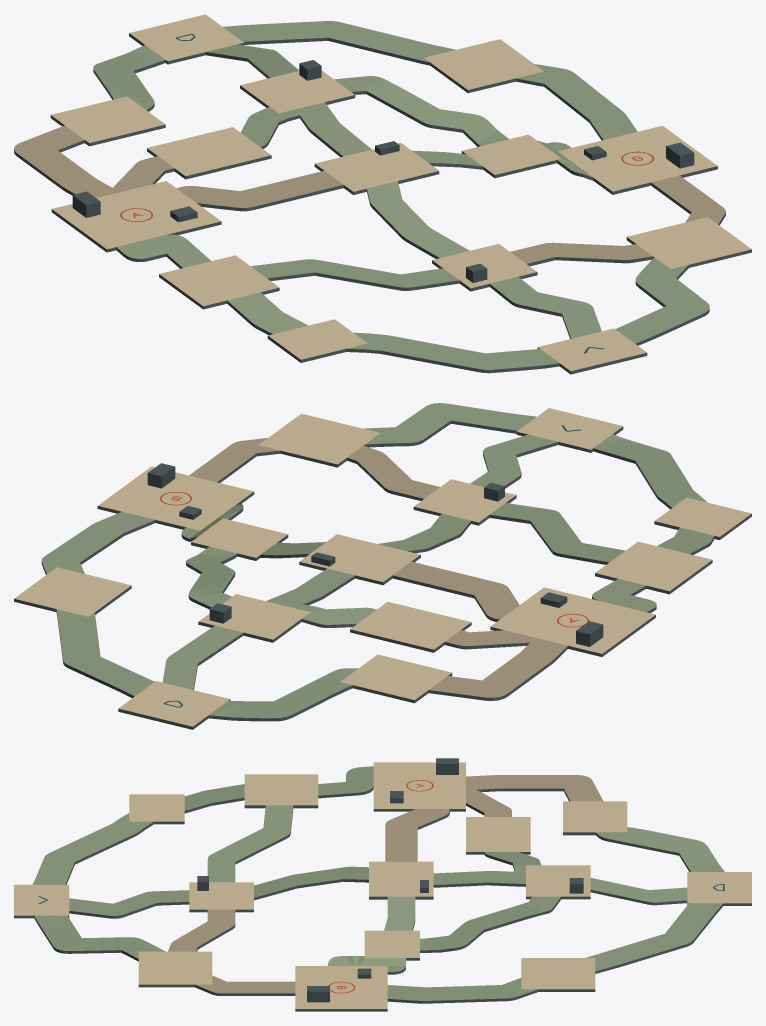
Rendered from lanka.glb.
3 renders of one model, top to bottom at view 1: azimuth 30°, elevation 25°; view 2: azimuth 150°, elevation 25°; view 3: azimuth 270°, elevation 25°, orthographic. The views are drawn at different scales.
Visible parts, largest first — view 1: Lanka • continuous floor; view 2: Lanka • continuous floor, Signal screen, Cistern wall; view 3: Lanka • continuous floor.
Boxes of the visible parts, x1,y1,x2,y2 form: Lanka • continuous floor: (14,14,751,374); Lanka • continuous floor: (14,403,751,729); Signal screen: (576,621,603,646); Cistern wall: (147,463,175,488); Lanka • continuous floor: (14,762,751,1011).
Bounding box in the file's own units: 118 × 8.95 × 160.
